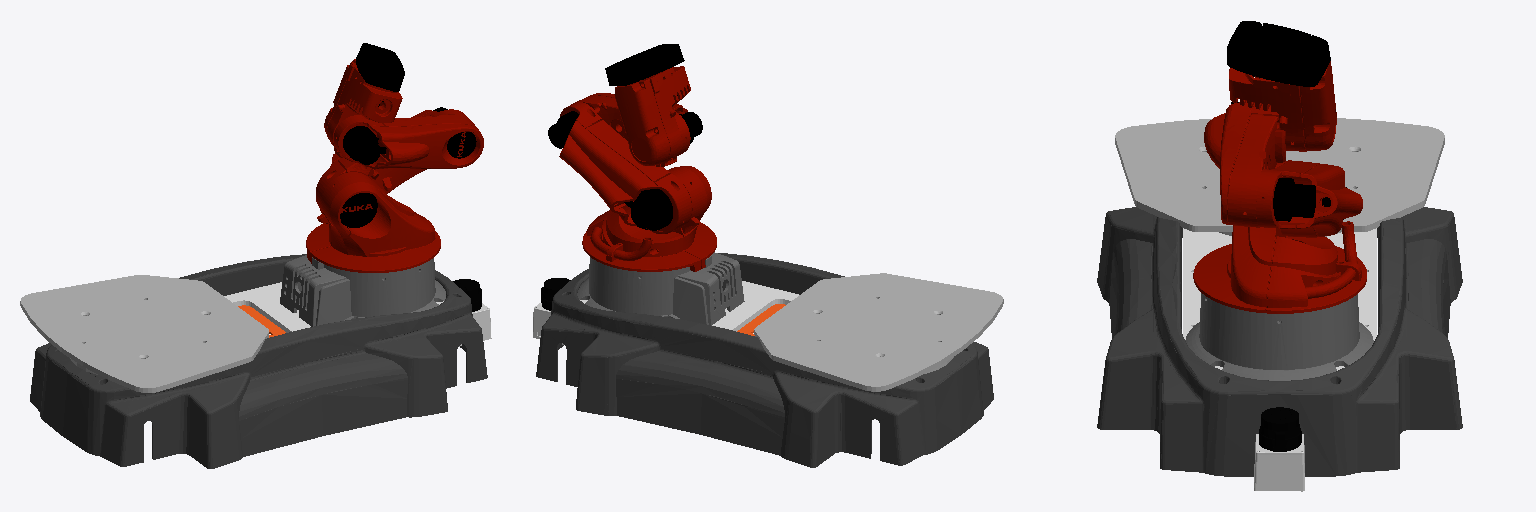
--- Facts derived from the render (not from the file) ---
3 views of the same robot in one strip: view 1: azimuth 30°, elevation 25°; view 2: azimuth 150°, elevation 25°; view 3: azimuth 270°, elevation 25° (orthographic).
Model youbot with 21 links and 20 joints (5 revolute, 4 continuous, 2 prismatic, 9 fixed), rooted at base_footprint, posed every joint at zero.
Visible links, largest first — view 1: base_link, plate_link, arm_link_1, arm_link_0, arm_link_3, arm_link_4, arm_link_2, arm_link_5, base_laser_front_link; view 2: base_link, plate_link, arm_link_2, arm_link_0, arm_link_1, arm_link_4, arm_link_5, arm_link_3, base_laser_front_link; view 3: base_link, plate_link, arm_link_1, arm_link_0, arm_link_3, arm_link_2, arm_link_4, arm_link_5, base_laser_front_link.
Link boxes in pixels (x1,y1,x2,y2): base_link: [30, 254, 487, 468]; plate_link: [20, 275, 268, 392]; arm_link_1: [306, 172, 440, 272]; arm_link_0: [280, 255, 445, 326]; arm_link_3: [334, 114, 483, 169]; arm_link_4: [324, 59, 402, 157]; arm_link_2: [316, 107, 466, 211]; arm_link_5: [356, 43, 404, 91]; base_laser_front_link: [453, 279, 491, 346]; base_link: [536, 253, 993, 467]; plate_link: [754, 273, 1003, 391]; arm_link_2: [548, 102, 691, 233]; arm_link_0: [577, 252, 744, 325]; arm_link_1: [582, 166, 716, 271]; arm_link_4: [614, 66, 690, 166]; arm_link_5: [605, 44, 684, 85]; arm_link_3: [575, 93, 702, 155]; base_laser_front_link: [533, 278, 570, 344]; base_link: [1097, 207, 1462, 476]; plate_link: [1115, 118, 1444, 236]; arm_link_1: [1193, 161, 1366, 313]; arm_link_0: [1185, 293, 1373, 380]; arm_link_3: [1204, 101, 1285, 227]; arm_link_2: [1256, 160, 1362, 237]; arm_link_4: [1229, 61, 1336, 151]; arm_link_5: [1227, 21, 1330, 86]; base_laser_front_link: [1254, 407, 1304, 491].
Size in the robot's own frame: 0.6104 by 0.3571 by 0.4278 metres.
9 mesh visuals loaded from 15 distinct referenced files (9 Collada DAE); not drawn: 7 (reference not matched to a file when rendering).

robot.urdf — youbot:
<?xml version="1.0" ?>
<!-- =================================================================================== -->
<!-- |    This document was autogenerated by xacro from youbot.urdf.xacro              | -->
<!-- |    EDITING THIS FILE BY HAND IS NOT RECOMMENDED                                 | -->
<!-- =================================================================================== -->
<robot name="youbot" xmlns:controller="http://playerstage.sourceforge.net/gazebo/xmlschema/#controller" xmlns:interface="http://playerstage.sourceforge.net/gazebo/xmlschema/#interface" xmlns:sensor="http://playerstage.sourceforge.net/gazebo/xmlschema/#sensor" xmlns:xacro="http://ros.org/wiki/xacro">
  <!-- The following included files set up definitions of parts of the robot body -->
  <!-- misc common stuff? -->
  <!-- youbot base -->
  <!-- youbot plate -->
  <!-- youbot arm -->
  <!-- youbot gripper -->
  <!-- generic simulator_gazebo plugins for starting mechanism control, ros time, ros battery -->
  <gazebo>
    <plugin filename="libgazebo_ros_control.so" name="gazebo_ros_controller">
      <robotParam>youbot_description</robotParam>
    </plugin>
  </gazebo>
  <!-- Now we can start using the macros included above to define the actual youbot -->
  <!-- The first use of a macro.  This one was defined in base.urdf.xacro above.
       A macro like this will expand to a set of link and joint definitions, and to additional
       Gazebo-related extensions (sensor plugins, etc).  The macro takes an argument, name, 
       that equals "base", and uses it to generate names for its component links and joints 
       (e.g., base_link).  The included origin block is also an argument to the macro.  By convention, 
       the origin block defines where the component is w.r.t its parent (in this case the parent 
       is the world frame). For more, see http://www.ros.org/wiki/xacro -->
  <!-- foot for arm-->
  <link name="base_footprint">
    <inertial>
      <mass value="0.0001"/>
      <origin rpy="0 0 0" xyz="0 0 -0.05"/>
      <inertia ixx="1.0" ixy="0.0" ixz="0.0" iyy="1.0" iyz="0.0" izz="1.0"/>
    </inertial>
    <visual>
      <origin rpy="0 0 0" xyz="0 0 0"/>
      <geometry>
        <box size="0.001 0.001 0.001"/>
      </geometry>
    </visual>
    <collision>
      <origin rpy="0 0 0" xyz="0 0 -0.05"/>
      <geometry>
        <box size="0.001 0.001 0.001"/>
      </geometry>
    </collision>
  </link>
  <joint name="base_footprint_joint" type="fixed">
    <origin rpy="0 0 0" xyz="0 0 0"/>
    <child link="base_link"/>
    <parent link="base_footprint"/>
  </joint>
  <link name="base_link">
    <inertial>
      <mass value="22.0"/>
      <origin xyz="0 0 0"/>
      <inertia ixx="5.652232699207" ixy="-0.009719934438" ixz="1.293988226423" iyy="5.669473158652" iyz="-0.007379583694" izz="3.683196351726"/>
    </inertial>
    <visual>
      <origin rpy="0 0 0" xyz="0 0 0"/>
      <geometry>
        <mesh filename="package://youbot_description/meshes/youbot_base/base.dae"/>
      </geometry>
    </visual>
    <collision>
      <origin rpy="0 0 0" xyz="0 0 0"/>
      <geometry>
        <!--<box size="${base_size_x} ${base_size_y} ${base_size_z}" />-->
        <mesh filename="package://youbot_description/meshes/youbot_base/base_convex.dae"/>
      </geometry>
    </collision>
  </link>
  <joint name="caster_joint_fl" type="fixed">
    <origin rpy="0 0 0" xyz="0.228 0.158 -0.034"/>
    <axis xyz="0 0 1"/>
    <parent link="base_link"/>
    <child link="caster_link_fl"/>
  </joint>
  <link name="caster_link_fl">
    <inertial>
      <mass value="0.1"/>
      <origin xyz="0 0 0"/>
      <inertia ixx="0.012411765597" ixy="-0.000711733678" ixz="0.00050272983" iyy="0.015218160428" iyz="-0.000004273467" izz="0.011763977943"/>
    </inertial>
  </link>
  <joint name="wheel_joint_fl" type="continuous">
    <axis xyz="0 1 0"/>
    <limit effort="30" velocity="10"/>
    <origin rpy="0 0 0" xyz="0.0 0.0 0.0"/>
    <parent link="caster_link_fl"/>
    <dynamics damping="1.0" friction="1.0"/>
    <safety_controller k_velocity="10.0"/>
    <child link="wheel_link_fl"/>
  </joint>
  <link name="wheel_link_fl">
    <inertial>
      <mass value="0.4"/>
      <origin xyz="0 0 0"/>
      <inertia ixx="0.012411765597" ixy="-0.000711733678" ixz="0.00050272983" iyy="0.015218160428" iyz="-0.000004273467" izz="0.011763977943"/>
    </inertial>
    <visual>
      <origin rpy="0 0 0" xyz="0 0 0"/>
      <geometry>
        <mesh filename="package://youbot_description/meshes/youbot_base/front-left_wheel.dae"/>
      </geometry>
    </visual>
    <collision>
      <origin rpy="1.570795 0 0" xyz="0 0 0"/>
      <geometry>
        <cylinder length="0.05" radius="0.05"/>
      </geometry>
    </collision>
  </link>
  <joint name="caster_joint_fr" type="fixed">
    <origin rpy="0 0 0" xyz="0.228 -0.158 -0.034"/>
    <axis xyz="0 0 1"/>
    <parent link="base_link"/>
    <child link="caster_link_fr"/>
  </joint>
  <link name="caster_link_fr">
    <inertial>
      <mass value="0.1"/>
      <origin xyz="0 0 0"/>
      <inertia ixx="0.012411765597" ixy="-0.000711733678" ixz="0.00050272983" iyy="0.015218160428" iyz="-0.000004273467" izz="0.011763977943"/>
    </inertial>
  </link>
  <joint name="wheel_joint_fr" type="continuous">
    <axis xyz="0 1 0"/>
    <limit effort="30" velocity="10"/>
    <dynamics damping="1.0" friction="1.0"/>
    <safety_controller k_velocity="10.0"/>
    <origin rpy="0 0 0" xyz="0.0 0.0 0.0"/>
    <parent link="caster_link_fr"/>
    <child link="wheel_link_fr"/>
  </joint>
  <link name="wheel_link_fr">
    <inertial>
      <mass value="0.4"/>
      <origin xyz="0 0 0"/>
      <inertia ixx="0.012411765597" ixy="-0.000711733678" ixz="0.00050272983" iyy="0.015218160428" iyz="-0.000004273467" izz="0.011763977943"/>
    </inertial>
    <visual>
      <origin rpy="0 0 0" xyz="0 0 0"/>
      <geometry>
        <mesh filename="package://youbot_description/meshes/youbot_base/front-right_wheel.dae"/>
      </geometry>
    </visual>
    <collision>
      <origin rpy="1.570795 0 0" xyz="0 0 0"/>
      <geometry>
        <cylinder length="0.05" radius="0.05"/>
      </geometry>
    </collision>
  </link>
  <joint name="caster_joint_bl" type="fixed">
    <origin rpy="0 0 0" xyz="-0.228 0.158 -0.034"/>
    <axis xyz="0 0 1"/>
    <parent link="base_link"/>
    <child link="caster_link_bl"/>
  </joint>
  <link name="caster_link_bl">
    <inertial>
      <mass value="0.1"/>
      <origin xyz="0 0 0"/>
      <inertia ixx="0.012411765597" ixy="-0.000711733678" ixz="0.00050272983" iyy="0.015218160428" iyz="-0.000004273467" izz="0.011763977943"/>
    </inertial>
  </link>
  <joint name="wheel_joint_bl" type="continuous">
    <axis xyz="0 1 0"/>
    <limit effort="10" velocity="10"/>
    <limit effort="30" velocity="10"/>
    <dynamics damping="1.0" friction="1.0"/>
    <safety_controller k_velocity="10.0"/>
    <origin rpy="0 0 0" xyz="0.0 0.0 0.0"/>
    <parent link="caster_link_bl"/>
    <child link="wheel_link_bl"/>
  </joint>
  <link name="wheel_link_bl">
    <inertial>
      <mass value="0.4"/>
      <origin xyz="0 0 0"/>
      <inertia ixx="0.012411765597" ixy="-0.000711733678" ixz="0.00050272983" iyy="0.015218160428" iyz="-0.000004273467" izz="0.011763977943"/>
    </inertial>
    <visual>
      <origin rpy="0 0 0" xyz="0 0 0"/>
      <geometry>
        <mesh filename="package://youbot_description/meshes/youbot_base/back-left_wheel.dae"/>
      </geometry>
    </visual>
    <collision>
      <origin rpy="1.570795 0 0" xyz="0 0 0"/>
      <geometry>
        <cylinder length="0.05" radius="0.05"/>
      </geometry>
    </collision>
  </link>
  <joint name="caster_joint_br" type="fixed">
    <origin rpy="0 0 0" xyz="-0.228 -0.158 -0.034"/>
    <axis xyz="0 0 1"/>
    <parent link="base_link"/>
    <child link="caster_link_br"/>
  </joint>
  <link name="caster_link_br">
    <inertial>
      <mass value="0.1"/>
      <origin xyz="0 0 0"/>
      <inertia ixx="0.012411765597" ixy="-0.000711733678" ixz="0.00050272983" iyy="0.015218160428" iyz="-0.000004273467" izz="0.011763977943"/>
    </inertial>
  </link>
  <joint name="wheel_joint_br" type="continuous">
    <axis xyz="0 1 0"/>
    <limit effort="30" velocity="10"/>
    <dynamics damping="1.0" friction="1.0"/>
    <safety_controller k_velocity="10.0"/>
    <origin rpy="0 0 0" xyz="0.0 0.0 0.0"/>
    <parent link="caster_link_br"/>
    <child link="wheel_link_br"/>
  </joint>
  <link name="wheel_link_br">
    <inertial>
      <mass value="0.4"/>
      <origin xyz="0 0 0"/>
      <inertia ixx="0.012411765597" ixy="-0.000711733678" ixz="0.00050272983" iyy="0.015218160428" iyz="-0.000004273467" izz="0.011763977943"/>
    </inertial>
    <visual>
      <origin rpy="0 0 0" xyz="0 0 0"/>
      <geometry>
        <mesh filename="package://youbot_description/meshes/youbot_base/back-right_wheel.dae"/>
      </geometry>
    </visual>
    <collision>
      <origin rpy="1.570795 0 0" xyz="0 0 0"/>
      <geometry>
        <cylinder length="0.05" radius="0.05"/>
      </geometry>
    </collision>
  </link>
  <joint name="base_laser_front_hokuyo_urg04_laser_joint" type="fixed">
    <axis xyz="0 1 0"/>
    <origin rpy="3.15 3.15 0" xyz="0.3 0 -0.03"/>
    <parent link="base_link"/>
    <child link="base_laser_front_link"/>
  </joint>
  <link name="base_laser_front_link" type="laser">
    <inertial>
      <mass value="0.16"/>
      <origin rpy="0 0 0" xyz="0 0 0"/>
      <inertia ixx="0.1" ixy="0" ixz="0" iyy="0.1" iyz="0" izz="0.1"/>
    </inertial>
    <visual>
      <origin rpy="0 0 0" xyz="0 0 0"/>
      <geometry>
        <mesh filename="package://youbot_description/meshes/sensors/hokuyo.dae"/>
      </geometry>
      <material name="DarkGrey"/>
    </visual>
    <collision>
      <origin rpy="0 0 0" xyz="0 0 0"/>
      <geometry>
        <mesh filename="package://youbot_description/meshes/sensors/hokuyo_convex.dae"/>
      </geometry>
    </collision>
  </link>
  <gazebo reference="base_laser_front_link">
    <sensor name="base_laser_front" type="ray">
      <ray>
        <scan>
          <horizontal>
            <samples>640</samples>
            <resolution>1.0</resolution>
            <min_angle>-89.9544498168</min_angle>
            <max_angle>89.9544498168</max_angle>
          </horizontal>
        </scan>
        <range>
          <min>0.05</min>
          <max>5.6</max>
          <resolution>0.36</resolution>
        </range>
      </ray>
      <plugin filename="libgazebo_ros_laser.so" name="gazebo_ros_base_laser_front_controller">
        <gaussianNoise>0.000</gaussianNoise>
        <alwaysOn>true</alwaysOn>
        <updateRate>10</updateRate>
        <topicName>scan_front</topicName>
        <frameName>/base_laser_front_link</frameName>
        <interface:laser name="gazebo_ros_base_laser_front_iface"/>
      </plugin>
    </sensor>
  </gazebo>
  <gazebo>
    <plugin filename="libgazebo_ros_planar_move.so" name="object_controller">
      <commandTopic>cmd_vel</commandTopic>
      <odometryTopic>odom</odometryTopic>
      <odometryFrame>odom</odometryFrame>
      <odometryRate>20.0</odometryRate>
      <robotBaseFrame>base_footprint</robotBaseFrame>
    </plugin>
  </gazebo>
  <gazebo reference="base_footprint">
    <gravity>true</gravity>
    <selfCollide>true</selfCollide>
  </gazebo>
  <transmission name="wheel_trans_fl">
    <type>transmission_interface/SimpleTransmission</type>
    <joint name="wheel_joint_fl"/>
    <actuator name="wheel_motor_fl">
      <hardwareInterface>EffortJointInterface</hardwareInterface>
      <mechanicalReduction>79.2380952381</mechanicalReduction>
    </actuator>
  </transmission>
  <transmission name="wheel_trans_fr">
    <type>transmission_interface/SimpleTransmission</type>
    <joint name="wheel_joint_fr"/>
    <actuator name="wheel_motor_fr">
      <hardwareInterface>EffortJointInterface</hardwareInterface>
      <mechanicalReduction>79.2380952381</mechanicalReduction>
    </actuator>
  </transmission>
  <transmission name="wheel_trans_bl">
    <type>transmission_interface/SimpleTransmission</type>
    <joint name="wheel_joint_bl"/>
    <actuator name="wheel_motor_bl">
      <hardwareInterface>EffortJointInterface</hardwareInterface>
      <mechanicalReduction>79.2380952381</mechanicalReduction>
    </actuator>
  </transmission>
  <transmission name="wheel_trans_br">
    <type>transmission_interface/SimpleTransmission</type>
    <joint name="wheel_joint_br"/>
    <actuator name="wheel_motor_br">
      <hardwareInterface>EffortJointInterface</hardwareInterface>
      <mechanicalReduction>79.2380952381</mechanicalReduction>
    </actuator>
  </transmission>
  <joint name="plate_joint" type="fixed">
    <origin rpy="0 0 0" xyz="-0.159 0 0.055"/>
    <parent link="base_link"/>
    <child link="plate_link"/>
  </joint>
  <link name="plate_link">
    <inertial>
      <origin rpy="0 0 0" xyz="0 0 -0.025"/>
      <mass value="1"/>
      <inertia ixx="0.01" ixy="0" ixz="0" iyy="0.01" iyz="0" izz="0.01"/>
    </inertial>
    <visual>
      <origin rpy="0 0 0" xyz="0 0 -0.025"/>
      <geometry>
        <mesh filename="package://youbot_description/meshes/youbot_plate/plate.dae"/>
      </geometry>
    </visual>
    <collision>
      <origin rpy="0 0 0" xyz="0 0 -0.025"/>
      <geometry>
        <mesh filename="package://youbot_description/meshes/youbot_plate/plate_convex.dae"/>
      </geometry>
    </collision>
  </link>
  <gazebo reference="plate_link">
    <gravity>true</gravity>
    <selfCollide>false</selfCollide>
  </gazebo>
  <joint name="arm_joint_0" type="fixed">
    <origin rpy="0 0 0" xyz="0.143 0 0.046"/>
    <parent link="base_link"/>
    <child link="arm_link_0"/>
  </joint>
  <link name="arm_link_0">
    <inertial>
      <!--<origin xyz="0.023 0 0.006" rpy="0 0 0"/>-->
      <origin rpy="0 0 0" xyz="0 0 0"/>
      <mass value="0.845"/>
      <inertia ixx="0.01" ixy="0" ixz="0" iyy="0.01" iyz="0" izz="0.01"/>
    </inertial>
    <visual>
      <origin rpy="0 0 0" xyz="0 0 0"/>
      <geometry>
        <mesh filename="package://youbot_description/meshes/youbot_arm/arm0.dae"/>
      </geometry>
    </visual>
    <collision>
      <!--<origin xyz="0.023 0 0.006" rpy="0 0 0"/>-->
      <origin rpy="0 0 0" xyz="0 0 0"/>
      <geometry>
        <mesh filename="package://youbot_description/meshes/youbot_arm/arm0_convex.dae"/>
        <!--<cylinder length="0.078" radius="0.093"/>-->
      </geometry>
    </collision>
  </link>
  <joint name="arm_joint_1" type="revolute">
    <origin rpy="0 0 2.96705722222" xyz="0.024 0 0.115"/>
    <parent link="arm_link_0"/>
    <child link="arm_link_1"/>
    <axis xyz="0 0 -1"/>
    <!--<calibration rising="${arm_1_ref}" falling="${arm_1_ref}"/>-->
    <dynamics damping="1" friction="1"/>
    <!-- damping - N*s/m, N*s*m/rad -->
    <!-- friction - N, N*m -->
    <limit effort="10000.0" lower="0" upper="5.89920788889" velocity="1.570795"/>
    <!--effort - N, N*m-->
    <!--velocity - m/s, rad/s-->
    <safety_controller k_position="20" k_velocity="1.51197323648" soft_lower_limit="0.05" soft_upper_limit="5.84920788889"/>
    <!--k_position N/m, N/rad-->
    <!--k_velocity N*s/m, N*s*m/rad-->
    <!--for details: http://www.ros.org/wiki/pr2_controller_manager/safety_limits-->
  </joint>
  <link name="arm_link_1">
    <inertial>
      <mass value="2.412"/>
      <origin rpy="0 0 0" xyz="0.01489 0.00213 0.00213"/>
      <inertia ixx="0.003863" ixy="-0.000979" ixz="0.000000" iyy="0.006196" iyz="0.000000" izz="0.006369"/>
    </inertial>
    <visual>
      <origin rpy="3.14159 0 0" xyz="0 0 0"/>
      <geometry>
        <mesh filename="package://youbot_description/meshes/youbot_arm/arm1.dae"/>
      </geometry>
    </visual>
    <collision>
      <!--<origin xyz="0 0 -0.003" rpy="0 0 0" />-->
      <origin rpy="3.14159 0 0" xyz="0 0 0"/>
      <geometry>
        <mesh filename="package://youbot_description/meshes/youbot_arm/arm_joint_1_convex.stl"/>
        <!--<cylinder length="0.102" radius="0.080"/>-->
      </geometry>
    </collision>
  </link>
  <joint name="arm_joint_2" type="revolute">
    <origin rpy="0 -1.13446305556 0" xyz="0.033 0 0"/>
    <parent link="arm_link_1"/>
    <child link="arm_link_2"/>
    <axis xyz="0 1 0"/>
    <!--<calibration rising="${arm_2_ref}" falling="${arm_2_ref}"/>-->
    <dynamics damping="1" friction="1"/>
    <limit effort="10000.0" lower="0" upper="2.70525805556" velocity="1.570795"/>
    <safety_controller k_position="20" k_velocity="6.04789294593" soft_lower_limit="0.05" soft_upper_limit="2.65525805556"/>
  </joint>
  <link name="arm_link_2">
    <inertial>
      <mass value="1.155"/>
      <origin rpy="0 0 0" xyz="0.10453 0.0017 -0.00297"/>
      <inertia ixx="0.000823" ixy="0.000000" ixz="-0.000000" iyy="0.004447" iyz="0.000000" izz="0.004439"/>
    </inertial>
    <visual>
      <origin rpy="-1.570795 -1.570795 0" xyz="0 0 0"/>
      <geometry>
        <mesh filename="package://youbot_description/meshes/youbot_arm/arm2.dae"/>
      </geometry>
    </visual>
    <collision>
      <!--<origin xyz="0.001 -0.041 0.074" rpy="0 0 0" />-->
      <origin rpy="-1.570795 -1.570795 0" xyz="0 0 0"/>
      <geometry>
        <mesh filename="package://youbot_description/meshes/youbot_arm/arm_joint_2_convex.stl"/>
        <!--<box size="0.074 0.082 0.222"/>-->
      </geometry>
    </collision>
  </link>
  <joint name="arm_joint_3" type="revolute">
    <origin rpy="0 2.54817855556 0" xyz="0.000 0.000 0.155"/>
    <parent link="arm_link_2"/>
    <child link="arm_link_3"/>
    <axis xyz="0 1 0"/>
    <dynamics damping="1" friction="1"/>
    <limit effort="10000.0" lower="-5.1836235" upper="0" velocity="1.570795"/>
    <safety_controller k_position="20" k_velocity="50" soft_lower_limit="-5.1336235" soft_upper_limit="-0.05"/>
  </joint>
  <link name="arm_link_3">
    <inertial>
      <mass value="0.934"/>
      <origin rpy="0 0 0" xyz="0.0001 0.0967 0.02107"/>
      <inertia ixx="0.002459" ixy="0.000000" ixz="0.000000" iyy="0.002571" iyz="-0.000000" izz="0.000535"/>
    </inertial>
    <visual>
      <origin rpy="1.570795 0 3.14159" xyz="0 0 0"/>
      <geometry>
        <mesh filename="package://youbot_description/meshes/youbot_arm/arm3.dae"/>
      </geometry>
    </visual>
    <collision>
      <!--<origin xyz="0.000 0.025 0.067" rpy="0 0 0" />-->
      <origin rpy="1.570795 0 3.14159" xyz="0 0 0"/>
      <geometry>
        <mesh filename="package://youbot_description/meshes/youbot_arm/arm_joint_3_convex.stl"/>
        <!--<box size="0.064 0.054 0.192"/>-->
      </geometry>
    </collision>
  </link>
  <joint name="arm_joint_4" type="revolute">
    <origin rpy="0 -1.78896097222 0" xyz="0.000 0.000 0.135"/>
    <parent link="arm_link_3"/>
    <child link="arm_link_4"/>
    <axis xyz="0 1 0"/>
    <!--<calibration rising="${arm_4_ref}" falling="${arm_4_ref}"/>-->
    <dynamics damping="1" friction="1"/>
    <limit effort="10000.0" lower="0" upper="3.57792194444" velocity="1.570795"/>
    <safety_controller k_position="20" k_velocity="100" soft_lower_limit="0" soft_upper_limit="3.52792194444"/>
  </joint>
  <link name="arm_link_4">
    <inertial>
      <mass value="0.877"/>
      <origin rpy="0 0 0" xyz="0.00011 0.05103 -0.02319"/>
      <inertia ixx="0.000869" ixy="0.000000" ixz="-0.000000" iyy="0.001173" iyz="-0.000231" izz="0.001091"/>
    </inertial>
    <visual>
      <origin rpy="1.570795 0 3.14159" xyz="0 0 0"/>
      <geometry>
        <mesh filename="package://youbot_description/meshes/youbot_arm/arm4.dae"/>
      </geometry>
    </visual>
    <collision>
      <!--<origin xyz="0 0 0.026" rpy="0 0 0" />-->
      <origin rpy="1.570795 0 3.14159" xyz="0 0 0"/>
      <geometry>
        <mesh filename="package://youbot_description/meshes/youbot_arm/arm_joint_4_convex.stl"/>
        <!--<box size="0.058 0.100 0.118"/>-->
      </geometry>
    </collision>
  </link>
  <joint name="arm_joint_5" type="revolute">
    <origin rpy="0 0 2.92342402778" xyz="0 0 0.114"/>
    <parent link="arm_link_4"/>
    <child link="arm_link_5"/>
    <axis xyz="0 0 -1"/>
    <!--<calibration rising="${arm_5_ref}" falling="${arm_5_ref}"/>-->
    <dynamics damping="1" friction="1"/>
    <limit effort="10000.0" lower="0" upper="5.84684805556" velocity="1.570795"/>
    <safety_controller k_position="20" k_velocity="100" soft_lower_limit="0" soft_upper_limit="5.79684805556"/>
  </joint>
  <link name="arm_link_5">
    <inertial>
      <mass value="0.251"/>
      <origin rpy="0 0 0" xyz="0.0 0.00115 -0.01683"/>
      <inertia ixx="0.000280" ixy="0.000000" ixz="0.000000" iyy="0.000339" iyz="0.000000" izz="0.000119"/>
    </inertial>
    <visual>
      <origin rpy="0 0 0" xyz="0 0 0"/>
      <geometry>
        <mesh filename="package://youbot_description/meshes/youbot_arm/arm5.dae"/>
      </geometry>
    </visual>
    <collision>
      <origin rpy="0 0 0" xyz="0 0 0"/>
      <geometry>
        <mesh filename="package://youbot_description/meshes/youbot_arm/arm_joint_5_convex.stl"/>
        <!--<box size="0.054 0.096 0.030"/>-->
      </geometry>
    </collision>
  </link>
  <gazebo reference="arm_link_0">
    <gravity>true</gravity>
    <selfCollide>true</selfCollide>
  </gazebo>
  <gazebo reference="arm_link_1">
    <gravity>true</gravity>
    <selfCollide>true</selfCollide>
  </gazebo>
  <gazebo reference="arm_link_2">
    <gravity>true</gravity>
    <selfCollide>true</selfCollide>
  </gazebo>
  <gazebo reference="arm_link_3">
    <gravity>true</gravity>
    <selfCollide>true</selfCollide>
  </gazebo>
  <gazebo reference="arm_link_4">
    <gravity>true</gravity>
    <selfCollide>true</selfCollide>
  </gazebo>
  <gazebo reference="arm_link_5">
    <gravity>true</gravity>
    <selfCollide>true</selfCollide>
  </gazebo>
  <transmission name="arm_trans_1">
    <type>transmission_interface/SimpleTransmission</type>
    <joint name="arm_joint_1"/>
    <actuator name="arm_motor_1">
      <hardwareInterface>EffortJointInterface</hardwareInterface>
      <mechanicalReduction>1</mechanicalReduction>
    </actuator>
  </transmission>
  <transmission name="arm_trans_2">
    <type>transmission_interface/SimpleTransmission</type>
    <joint name="arm_joint_2"/>
    <actuator name="arm_motor_2">
      <hardwareInterface>EffortJointInterface</hardwareInterface>
      <mechanicalReduction>1</mechanicalReduction>
    </actuator>
  </transmission>
  <transmission name="arm_trans_3">
    <type>transmission_interface/SimpleTransmission</type>
    <joint name="arm_joint_3"/>
    <actuator name="arm_motor_3">
      <hardwareInterface>EffortJointInterface</hardwareInterface>
      <mechanicalReduction>1</mechanicalReduction>
    </actuator>
  </transmission>
  <transmission name="arm_trans_4">
    <type>transmission_interface/SimpleTransmission</type>
    <joint name="arm_joint_4"/>
    <actuator name="arm_motor_4">
      <hardwareInterface>EffortJointInterface</hardwareInterface>
      <mechanicalReduction>1</mechanicalReduction>
    </actuator>
  </transmission>
  <transmission name="arm_trans_5">
    <type>transmission_interface/SimpleTransmission</type>
    <joint name="arm_joint_5"/>
    <actuator name="arm_motor_5">
      <hardwareInterface>EffortJointInterface</hardwareInterface>
      <mechanicalReduction>1</mechanicalReduction>
    </actuator>
  </transmission>
  <joint name="gripper_palm_joint" type="fixed">
    <origin rpy="0 -1.570795 3.14159" xyz="-0.0027 0 .016"/>
    <parent link="arm_link_5"/>
    <child link="gripper_palm_link"/>
  </joint>
  <link name="gripper_palm_link">
    <inertial>
      <origin rpy="3.14159 -1.570795  0" xyz="0 0 0"/>
      <mass value="0.1"/>
      <inertia ixx="0.01" ixy="0" ixz="0" iyy="0.01" iyz="0" izz="0.01"/>
    </inertial>
    <visual>
      <origin rpy="3.14159 -1.570795 0" xyz="0 0 0"/>
      <geometry>
        <mesh filename="package://youbot_description/meshes/youbot_gripper/palm.dae"/>
      </geometry>
    </visual>
    <collision>
      <origin rpy="3.14159 -1.570795 0" xyz="0 0 0"/>
      <geometry>
        <!--<box size="0.050 0.094 0.054"/>-->
        <mesh filename="package://youbot_description/meshes/youbot_gripper/palm_convex.dae"/>
      </geometry>
    </collision>
  </link>
  <joint name="gripper_finger_joint_l" type="prismatic">
    <origin rpy="0 -1.570795 3.14159" xyz="0.046 0.010 0.003 "/>
    <parent link="gripper_palm_link"/>
    <child link="gripper_finger_link_l"/>
    <axis xyz="0 -1 0"/>
    <dynamics damping="1.0" friction="1.0"/>
    <limit effort="1" lower="0" upper="0.0115" velocity="0.1"/>
    <safety_controller k_position="20" k_velocity="25" soft_lower_limit="0.001" soft_upper_limit="0.011"/>
  </joint>
  <link name="gripper_finger_link_l">
    <inertial>
      <origin rpy="0 0 0" xyz="0 -0.001 0"/>
      <mass value="0.01"/>
      <inertia ixx="0.01" ixy="0" ixz="0" iyy="0.01" iyz="0" izz="0.01"/>
    </inertial>
    <visual>
      <origin rpy="0 0 0" xyz="0 0 0"/>
      <geometry>
        <mesh filename="package://youbot_description/meshes/youbot_gripper/finger.dae"/>
      </geometry>
    </visual>
    <collision>
      <origin rpy="0 0 0" xyz="0 0 0"/>
      <geometry>
        <!--<box size="0.014 0.020 0.046"/>-->
        <mesh filename="package://youbot_description/meshes/youbot_gripper/finger_convex.dae"/>
      </geometry>
    </collision>
  </link>
  <joint name="gripper_finger_joint_r" type="prismatic">
    <origin rpy="0 1.570795 0" xyz="0.046 -0.010 0.003"/>
    <parent link="gripper_palm_link"/>
    <child link="gripper_finger_link_r"/>
    <axis xyz="0 -1 0"/>
    <dynamics damping="1.0" friction="1.0"/>
    <limit effort="1" lower="0" upper="0.0115" velocity="0.1"/>
    <safety_controller k_position="20" k_velocity="25" soft_lower_limit="0.001" soft_upper_limit="0.011"/>
  </joint>
  <link name="gripper_finger_link_r">
    <inertial>
      <origin rpy="0 0 0" xyz="0.000 -0.001 0"/>
      <mass value="0.01"/>
      <inertia ixx="0.01" ixy="0" ixz="0" iyy="0.01" iyz="0" izz="0.01"/>
    </inertial>
    <visual>
      <origin rpy="0 0 0" xyz="0 0 0"/>
      <geometry>
        <mesh filename="package://youbot_description/meshes/youbot_gripper/finger.dae"/>
      </geometry>
    </visual>
    <collision>
      <origin rpy="0 0 0" xyz="0.000 0 0"/>
      <geometry>
        <!--<box size="0.014 0.020 0.046"/>-->
        <mesh filename="package://youbot_description/meshes/youbot_gripper/finger_convex.dae"/>
      </geometry>
    </collision>
  </link>
  <gazebo reference="gripper_palm_link">
    <material>Gazebo/Black</material>
    <gravity>true</gravity>
    <selfCollide>true</selfCollide>
  </gazebo>
  <gazebo reference="gripper_finger_l_link">
    <material>Gazebo/Black</material>
    <gravity>true</gravity>
    <selfCollide>true</selfCollide>
  </gazebo>
  <gazebo reference="gripper_finger_r_link">
    <material>Gazebo/Black</material>
    <gravity>true</gravity>
    <selfCollide>true</selfCollide>
  </gazebo>
  <transmission name="gripper_finger_l_trans">
    <type>transmission_interface/SimpleTransmission</type>
    <joint name="gripper_finger_joint_l"/>
    <actuator name="gripper_finger_l_motor">
      <hardwareInterface>EffortJointInterface</hardwareInterface>
      <mechanicalReduction>1</mechanicalReduction>
    </actuator>
  </transmission>
  <transmission name="gripper_finger_r_trans">
    <type>transmission_interface/SimpleTransmission</type>
    <joint name="gripper_finger_joint_r"/>
    <actuator name="gripper_finger_r_motor">
      <hardwareInterface>EffortJointInterface</hardwareInterface>
      <mechanicalReduction>1</mechanicalReduction>
    </actuator>
  </transmission>
</robot>
